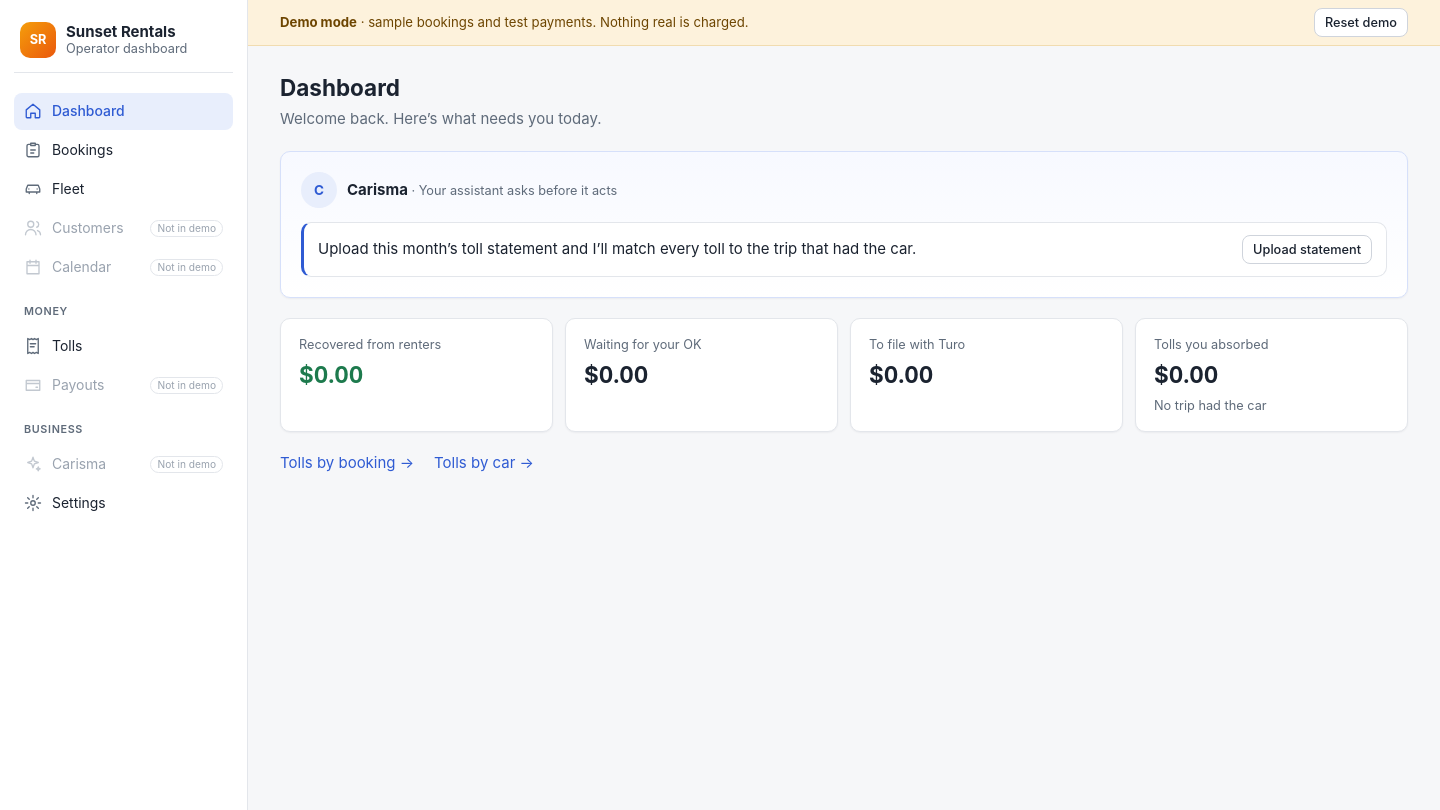
Test: dashboard › Carisma asks for a statement first, and the button goes to upload
The width and height of the screenshot is (1440, 810).
Expected: the text "Upload this month’s toll statement" is shown, left=318, top=239, right=916, bottom=258
Click the button "Upload statement": (1307, 249) left=1242, top=235, right=1372, bottom=264
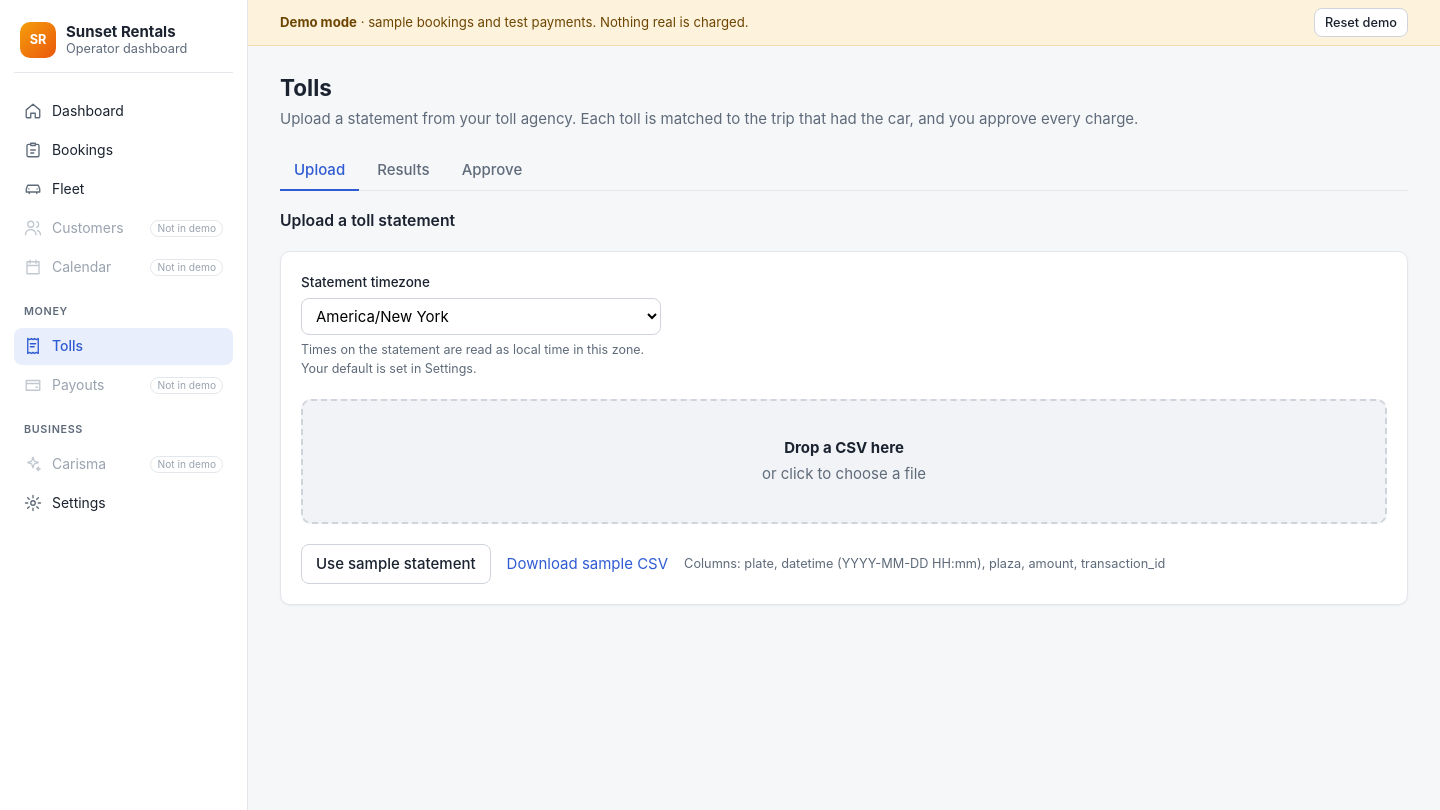
Expected: the heading "Upload a toll statement" is shown, left=280, top=211, right=455, bottom=230
